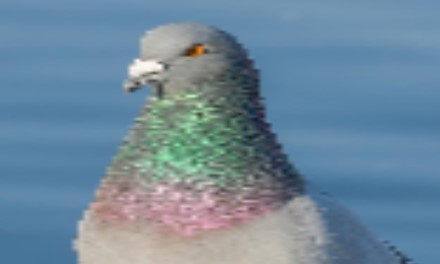pigeon: (69, 18, 331, 263)
